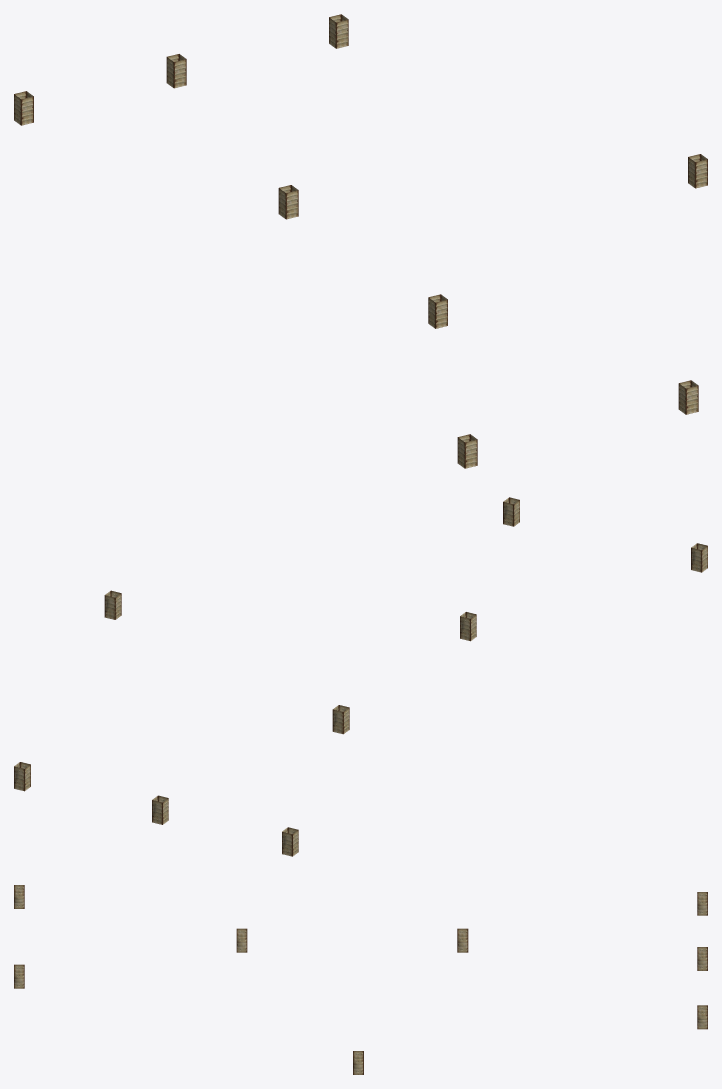
The picture shows the model from 3 angles, top to bottom: view 1: azimuth 30°, elevation 25°; view 2: azimuth 150°, elevation 25°; view 3: azimuth 270°, elevation 25°; orthographic projection. The views are drawn at different scales.
Parts seen in each view (by area): view 1: Box173; view 2: Box173; view 3: Box173.
Part boxes in pixels (bbox=[...]): Box173: bbox=[14, 14, 707, 468]; Box173: bbox=[14, 497, 707, 856]; Box173: bbox=[14, 885, 707, 1074].
Bounding box in the file's own units: 376 × 20 × 647.
